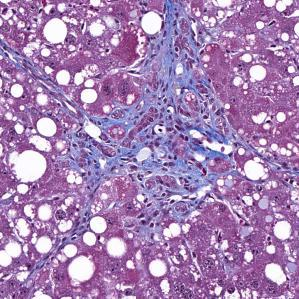fibrosis: (84, 116, 206, 199), (127, 42, 217, 119)
